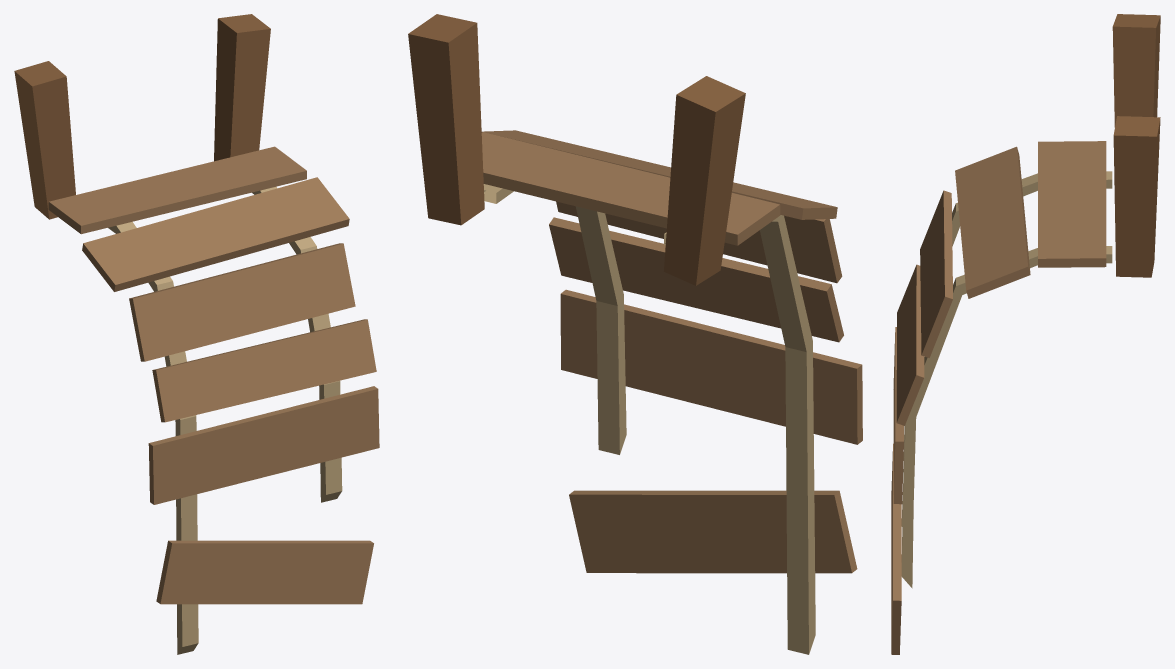
File: Bridge-C01.fbx
3 renders of one model, left to right at view 1: azimuth 30°, elevation 25°; view 2: azimuth 150°, elevation 25°; view 3: azimuth 270°, elevation 25°, orthographic. The views are drawn at different scales.
Visible parts, largest first — view 1: Bridge-C01; view 2: Bridge-C01; view 3: Bridge-C01.
Boxes of the visible parts, left/top/right/bottom form: Bridge-C01: left=14, top=14, right=379, bottom=654; Bridge-C01: left=408, top=14, right=862, bottom=654; Bridge-C01: left=891, top=14, right=1160, bottom=654.
Bounding box in the file's own units: 297 × 592 × 265.
